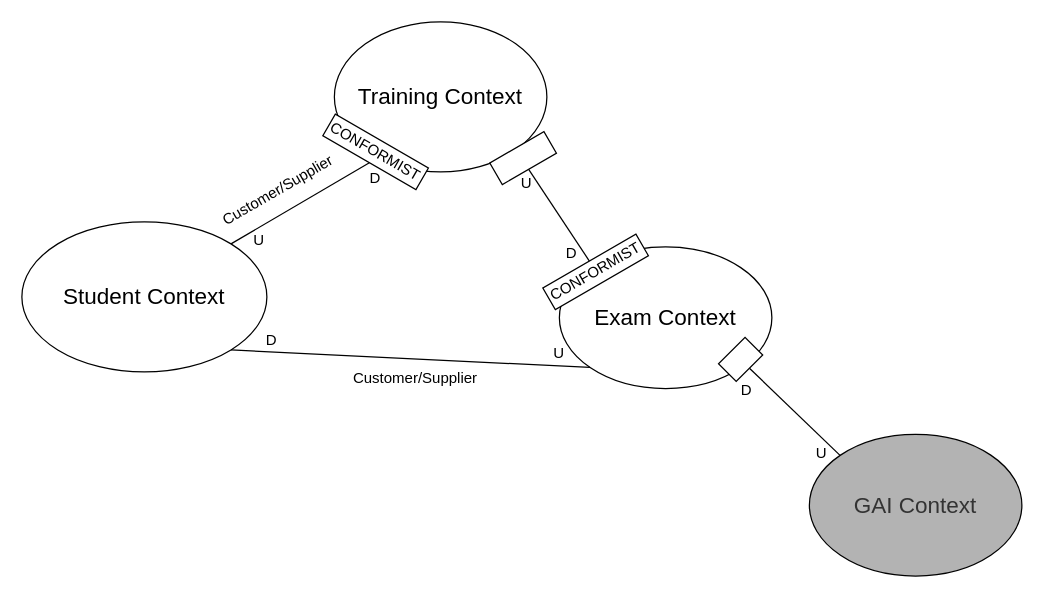
Some shapes in this 1044 by 599 pixel diagram are drawn without their labels. Each missing label, with the centre of its shape:
"ACL" belongs at (740,359).
"OHS/PL" belongs at (522,157).
